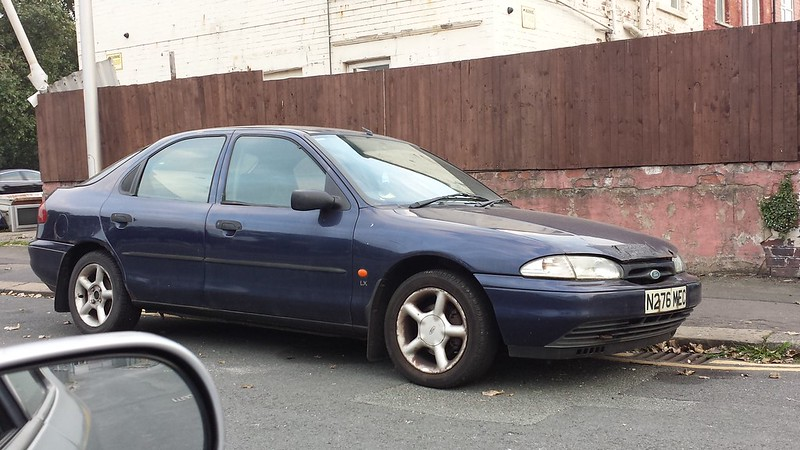number_plate: (625, 282, 716, 321)
